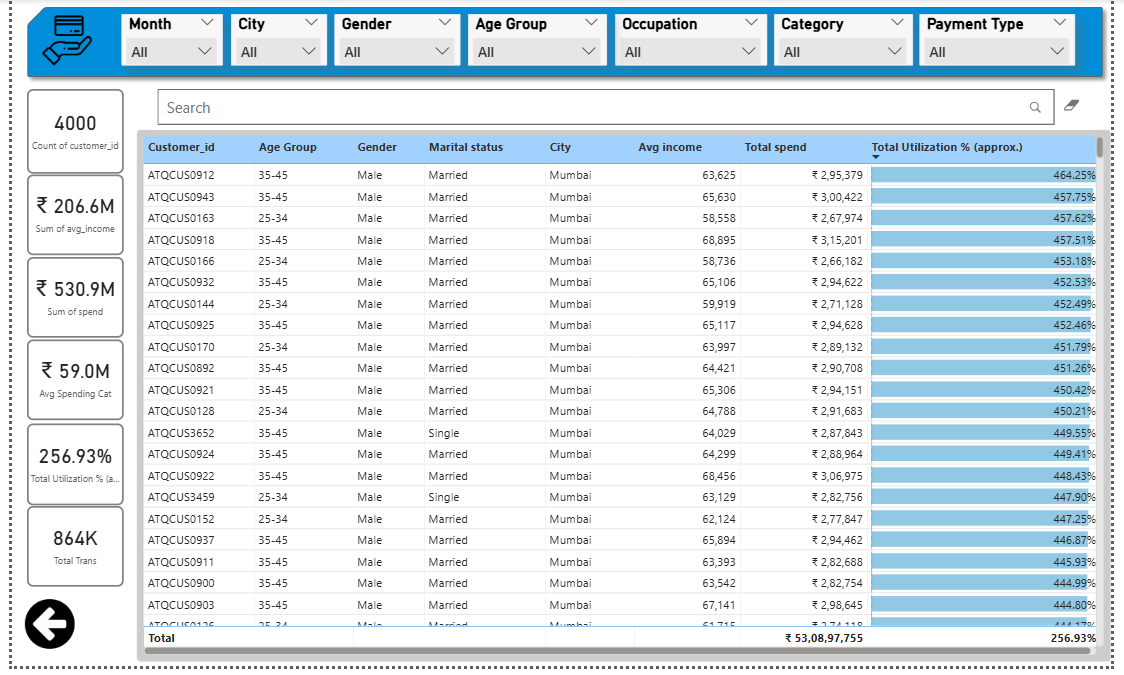

The page's visual inventory and layout, read from the dashboard file:
{"tool":"powerbi","page":{"name":"Table View","canvas":[1280,777],"ordinal":2},"visuals":[{"type":"shape","box":[8,0,1271,100],"z":0,"group":"g1"},{"type":"tableEx","fields":{"Values":["dim_customers.customer_id","dim_customers.age_group","dim_customers.gender","dim_customers.marital status","dim_customers.city","dim_customers.avg_income","Calculated Measures.Total spend","Calculated Measures.Total Utilization % (approx.)"]},"box":[145,152.5,1135,620],"z":0},{"type":"slicer","title":"Month","fields":{"Values":["fact_spends.month"]},"box":[127.5,17.5,118,60],"z":1000,"group":"g1"},{"type":"card","fields":{"Values":["Count(dim_customers.customer_id)"]},"box":[17.5,105,112.5,98.8],"z":1000},{"type":"group","id":"g1","title":"Group 2","box":[8,0,1272,100],"z":2000},{"type":"slicer","fields":{"Values":["dim_customers.city"]},"box":[254.6,17.5,112,60],"z":2000,"group":"g1"},{"type":"slicer","fields":{"Values":["dim_customers.gender"]},"box":[374.2,17.5,146.8,60],"z":3000,"group":"g1"},{"type":"card","fields":{"Values":["fact_spends.Total Trans"]},"box":[17.5,590,112.5,93.8],"z":3000},{"type":"slicer","fields":{"Values":["dim_customers.occupation"]},"box":[701,17.5,177,60],"z":4000,"group":"g1"},{"type":"card","fields":{"Values":["Sum(fact_spends.spend)"]},"box":[17.5,301.2,112.5,93.8],"z":4000},{"type":"image","box":[28.4,10,68.1,75],"z":5000,"group":"g1"},{"type":"card","fields":{"Values":["Sum(dim_customers.avg_income)"]},"box":[17.5,205,112.5,93.8],"z":5000},{"type":"card","fields":{"Values":["Calculated Measures.Avg Spending Cat"]},"box":[17.5,397.5,112.5,93.8],"z":6000},{"type":"card","fields":{"Values":["Calculated Measures.Total Utilization % (approx.)"]},"box":[17.5,493.8,112.5,95],"z":7000},{"type":"textFilter25A4896A83E0487089E2B90C9AE57C8A","fields":{"field":["dim_customers.customer_id"]},"box":[165,100,1095,52.5],"z":8000},{"type":"group","id":"g2","title":"Group 4","box":[7.5,693.1,75,67.5],"z":9000},{"type":"image","box":[7.5,693.1,73.3,68.3],"z":11000,"group":"g2"},{"type":"slicer","title":"Month","fields":{"Values":["dim_customers.age_group"]},"box":[530,17.5,161.9,60],"z":14000,"group":"g1"},{"type":"slicer","title":"Month","fields":{"Values":["fact_spends.category"]},"box":[887.1,17.5,161.9,60],"z":15000,"group":"g1"},{"type":"slicer","title":"Month","fields":{"Values":["fact_spends.payment_type"]},"box":[1056.6,17.5,181.6,60],"z":16000,"group":"g1"}]}

Visuals, with their boxes in screenshot pixels (x1, y1, x2, y2), scaled from the page's 1280x777 canvas onto the 1124x675 screenshot:
shape: left=7, top=0, right=1123, bottom=87
tableEx - dim_customers.customer_id x dim_customers.age_group: left=127, top=132, right=1123, bottom=671
"Month" slicer: left=112, top=15, right=216, bottom=67
card - Count(dim_customers.customer_id): left=15, top=91, right=114, bottom=177
"Group 2" group: left=7, top=0, right=1123, bottom=87
slicer - dim_customers.city: left=224, top=15, right=322, bottom=67
slicer - dim_customers.gender: left=329, top=15, right=458, bottom=67
card - fact_spends.Total Trans: left=15, top=513, right=114, bottom=594
slicer - dim_customers.occupation: left=616, top=15, right=771, bottom=67
card - Sum(fact_spends.spend): left=15, top=262, right=114, bottom=343
image: left=25, top=9, right=85, bottom=74
card - Sum(dim_customers.avg_income): left=15, top=178, right=114, bottom=260
card - Calculated Measures.Avg Spending Cat: left=15, top=345, right=114, bottom=427
card - Calculated Measures.Total Utilization % (approx.): left=15, top=429, right=114, bottom=512
textFilter25A4896A83E0487089E2B90C9AE57C8A - dim_customers.customer_id: left=145, top=87, right=1106, bottom=132
"Group 4" group: left=7, top=602, right=72, bottom=661
image: left=7, top=602, right=71, bottom=661
"Month" slicer: left=465, top=15, right=608, bottom=67
"Month" slicer: left=779, top=15, right=921, bottom=67
"Month" slicer: left=928, top=15, right=1087, bottom=67
